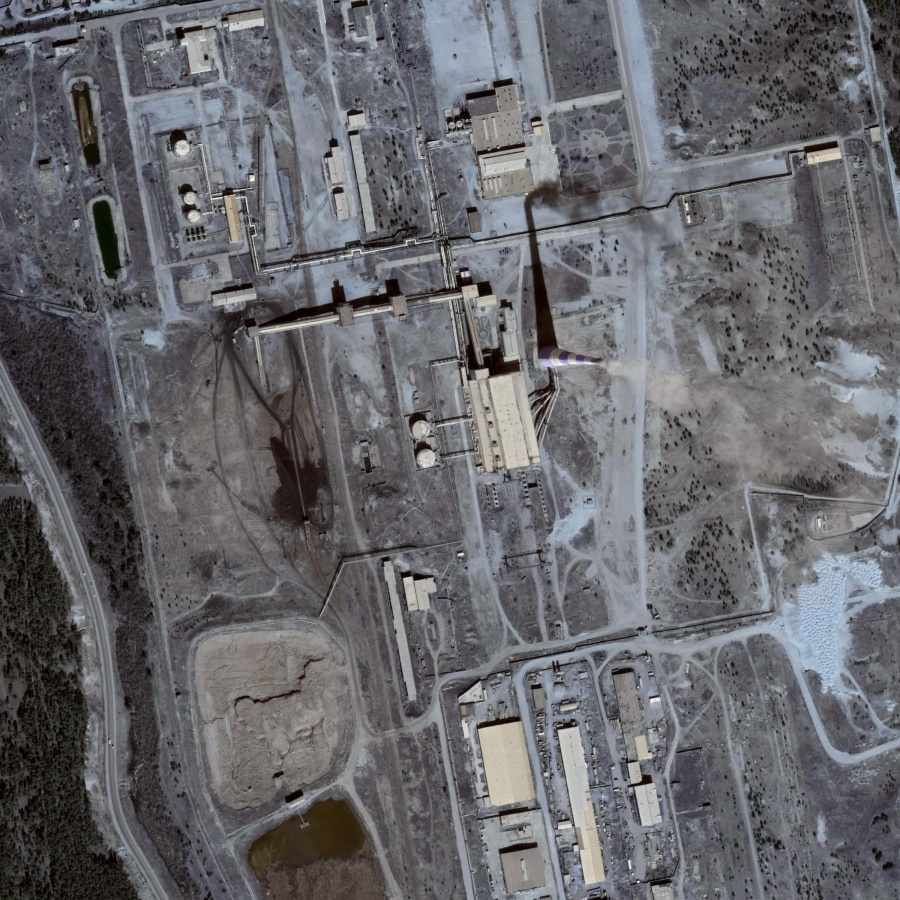PowerPlant: (149, 116, 627, 544)
